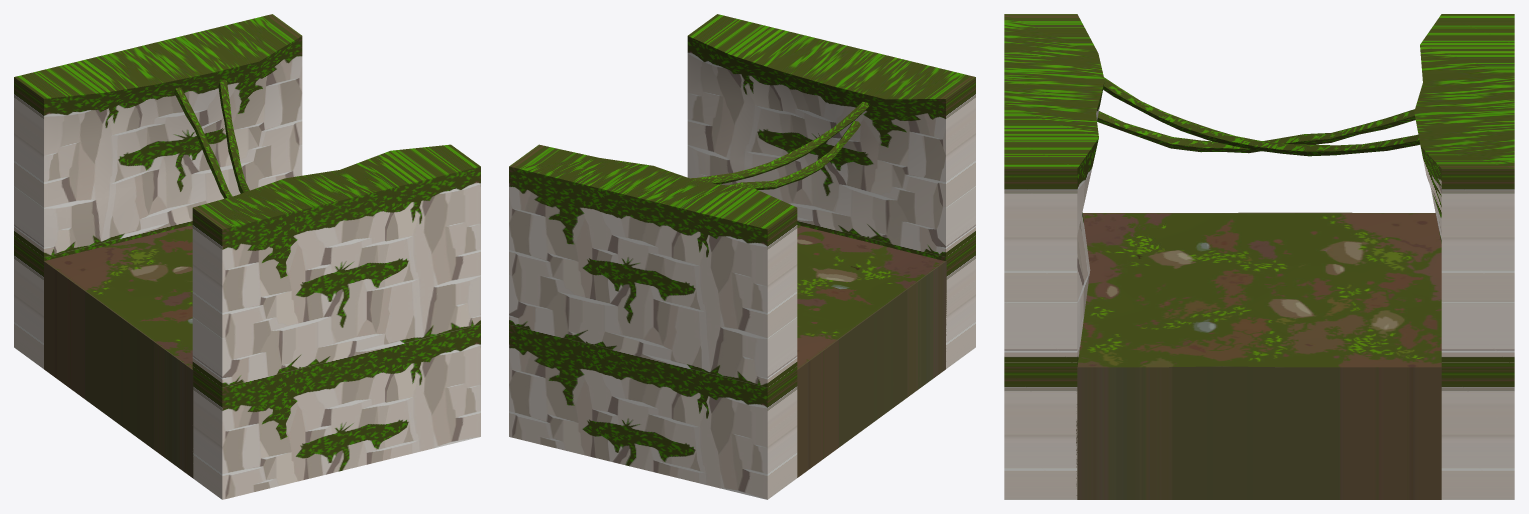
The model's file is Case1.fbx.
3 renders of one model, left to right at view 1: azimuth 30°, elevation 25°; view 2: azimuth 150°, elevation 25°; view 3: azimuth 270°, elevation 25°, orthographic. The views are drawn at different scales.
Visible parts, largest first — view 1: Box004, Box003, Box001, Line002, Line001; view 2: Box003, Box004, Box001, Line001, Line002; view 3: Box001, Box004, Box003, Line001, Line002.
Boxes of the visible parts, box(x1,y1,x2,y2) form: Box004: box(192, 144, 480, 499); Box003: box(14, 14, 302, 368); Box001: box(44, 225, 193, 478); Line002: box(173, 87, 232, 198); Line001: box(218, 79, 249, 193); Box003: box(509, 144, 797, 499); Box004: box(687, 14, 975, 368); Box001: box(797, 225, 946, 477); Line001: box(690, 102, 869, 184); Line002: box(728, 121, 860, 189); Box001: box(1076, 212, 1441, 499); Box004: box(1004, 14, 1104, 499); Box003: box(1414, 14, 1514, 499); Line001: box(1103, 77, 1420, 156); Line002: box(1097, 109, 1415, 153).
Size of the model in its own units: 197 by 197 by 275.
3 materials, 3 textured.
